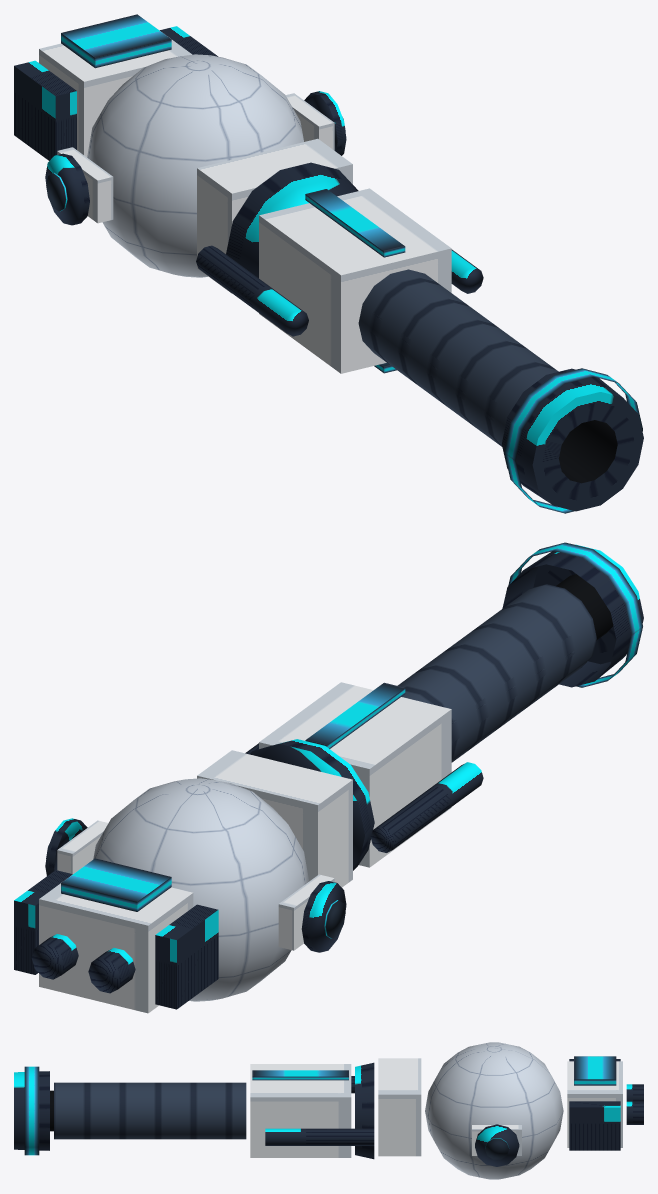
The model's file is turret_basic_shooter.obj.
The picture shows the model from 3 angles, top to bottom: view 1: azimuth 30°, elevation 25°; view 2: azimuth 150°, elevation 25°; view 3: azimuth 270°, elevation 25°; orthographic projection. The views are drawn at different scales.
Visible parts, largest first — view 1: turret_basic_shooter; view 2: turret_basic_shooter; view 3: turret_basic_shooter.
Boxes of the visible parts, x1,y1,x2,y2 form: turret_basic_shooter: [14, 14, 643, 513]; turret_basic_shooter: [14, 542, 643, 1013]; turret_basic_shooter: [14, 1042, 643, 1179].
Bounding box in the file's own units: 2.87 × 2 × 9.09.
Materials: 1 (1 with a texture image).
